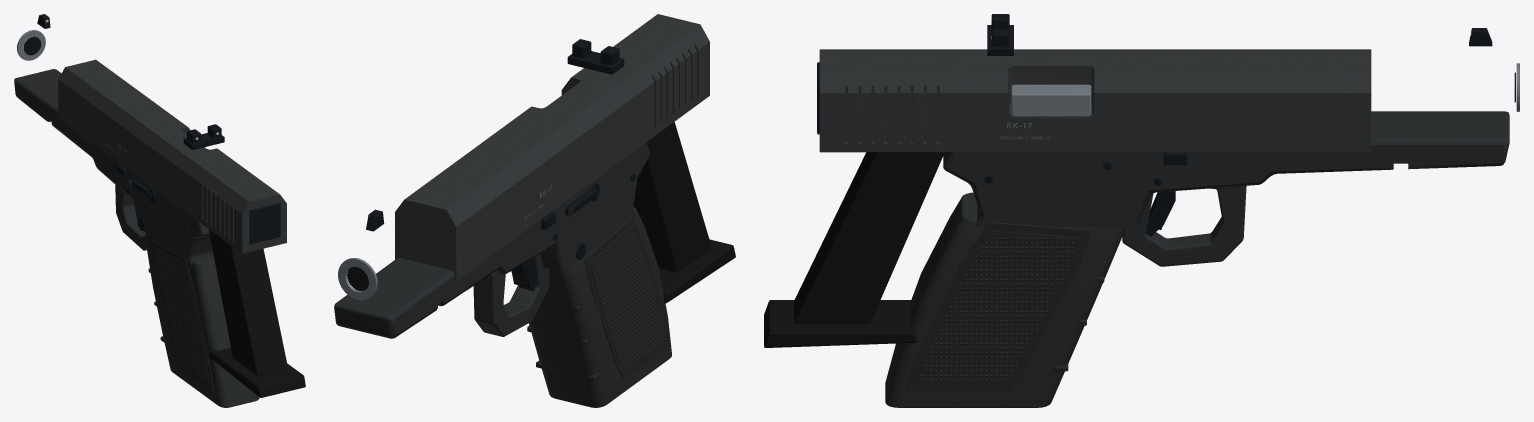
File: weapon-67-BugI3EWZ.glb
The picture shows the model from 3 angles, left to right: view 1: azimuth 30°, elevation 25°; view 2: azimuth 150°, elevation 25°; view 3: azimuth 270°, elevation 25°; orthographic projection. The views are drawn at different scales.
Visible parts, largest first — view 1: salient_weapon_bolt, salient_weapon_body, salient_weapon_magazine, salient_weapon_iron; view 2: salient_weapon_body, salient_weapon_bolt, salient_weapon_magazine, salient_weapon_iron; view 3: salient_weapon_body, salient_weapon_bolt, salient_weapon_magazine, salient_weapon_iron.
Boxes of the visible parts, <box> form: salient_weapon_bolt: <box>58,59,286,253</box>; salient_weapon_body: <box>14,30,259,407</box>; salient_weapon_magazine: <box>209,229,305,397</box>; salient_weapon_iron: <box>37,14,224,149</box>; salient_weapon_body: <box>334,142,671,407</box>; salient_weapon_bolt: <box>395,14,709,281</box>; salient_weapon_magazine: <box>633,122,735,303</box>; salient_weapon_iron: <box>366,39,624,231</box>; salient_weapon_body: <box>885,63,1519,407</box>; salient_weapon_bolt: <box>817,49,1371,152</box>; salient_weapon_magazine: <box>764,152,944,347</box>; salient_weapon_iron: <box>987,14,1492,55</box>.
Size of the model in its own units: 0.0314 by 0.1376 by 0.2549.
13 materials, 5 textured.
